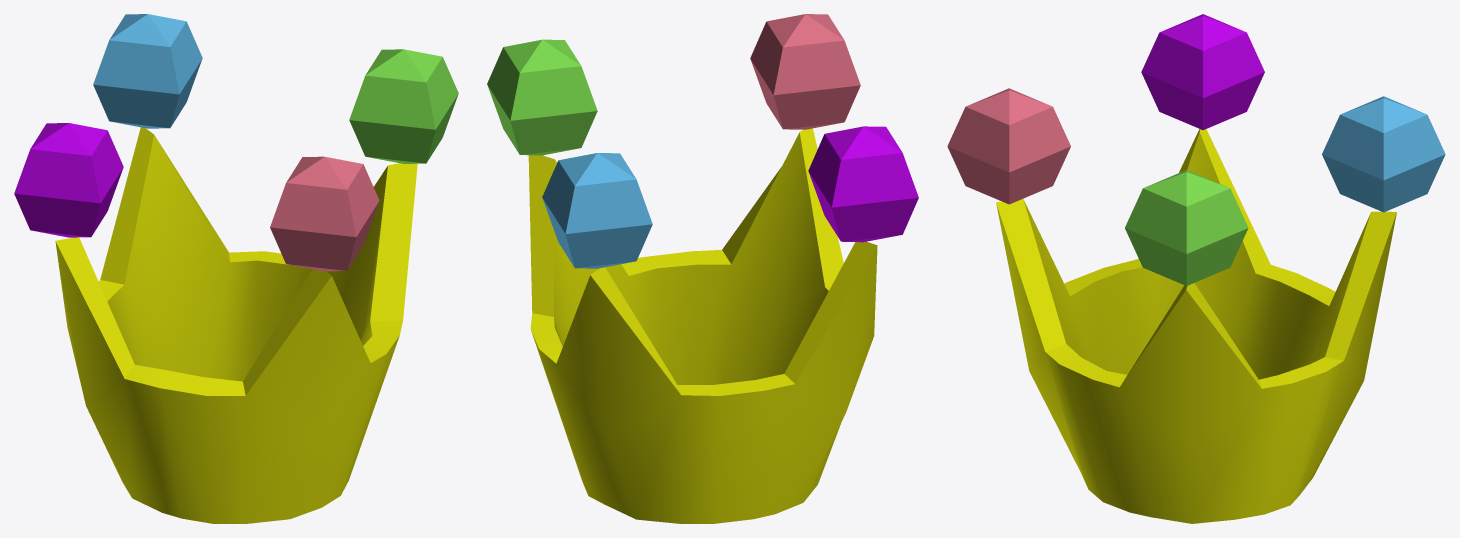
The model's file is crown more centered.fbx.
The picture shows the model from 3 angles, left to right: view 1: azimuth 30°, elevation 25°; view 2: azimuth 150°, elevation 25°; view 3: azimuth 270°, elevation 25°; orthographic projection. The views are drawn at different scales.
Parts seen in each view (by area): view 1: polySurface17; view 2: polySurface17; view 3: polySurface17.
Part boxes in pixels (<box>): polySurface17: <box>14,14,458,523</box>; polySurface17: <box>487,14,918,523</box>; polySurface17: <box>947,14,1445,523</box>.
Bounding box in the file's own units: 99.87 × 85.32 × 101.
